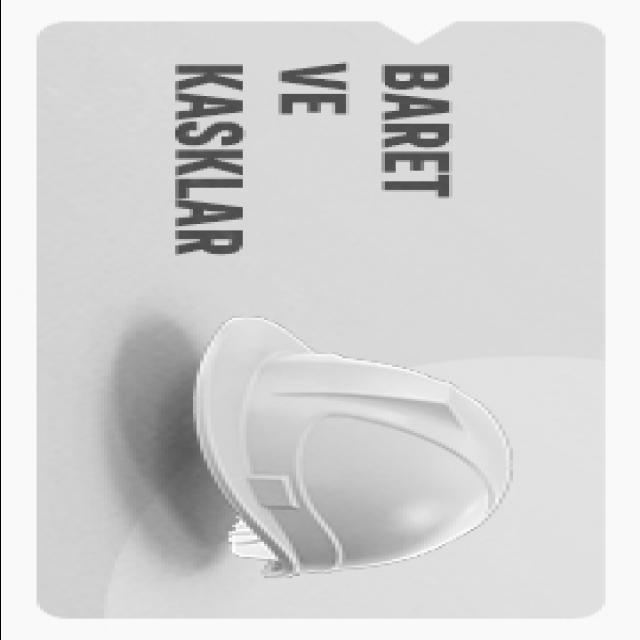safety_helmet: (188, 316, 498, 578)
